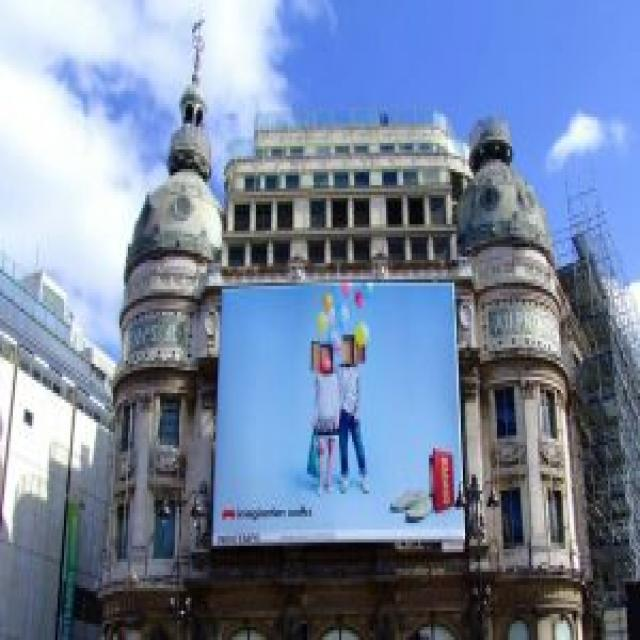Werbetafel frei: (214, 287, 472, 557)
